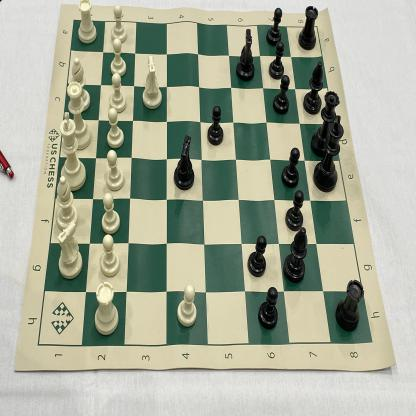black-bishop: (283, 228, 308, 284), (304, 60, 324, 116)
black-king: (313, 115, 344, 194)
black-knight: (173, 132, 197, 192), (235, 28, 256, 81)
black-pawn: (247, 235, 268, 280), (285, 191, 307, 231), (258, 286, 278, 329), (206, 104, 225, 146), (282, 145, 300, 188), (266, 5, 284, 45), (273, 75, 290, 116), (269, 41, 285, 81)
black-queen: (311, 89, 342, 158)
black-rook: (334, 278, 365, 333), (299, 5, 317, 51)
white-bishop: (55, 177, 78, 231), (71, 57, 91, 112)
white-king: (59, 112, 86, 189)
white-knight: (55, 222, 83, 280), (142, 55, 163, 111)
white-pawn: (176, 282, 197, 329), (100, 234, 120, 277), (105, 150, 125, 190), (101, 191, 120, 233), (106, 108, 124, 149), (109, 74, 125, 112), (111, 39, 127, 75), (111, 5, 126, 43)
white-queen: (66, 80, 91, 150)
white-rook: (94, 280, 119, 337), (78, 0, 96, 44)
